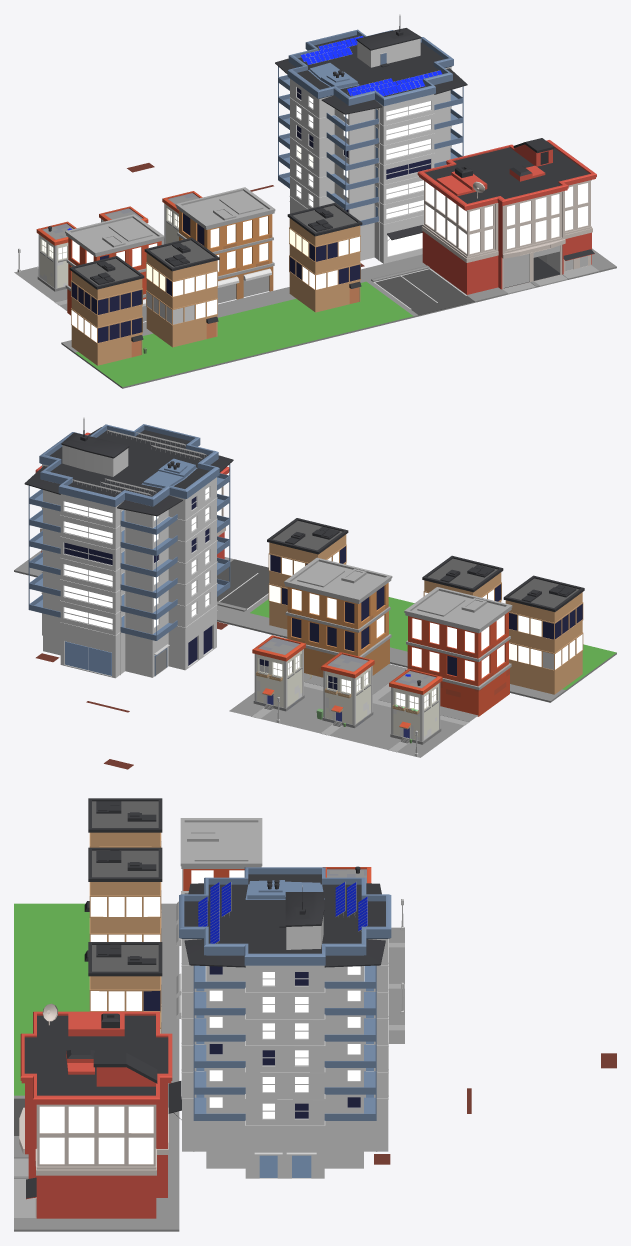
Rendered from citySurrounding1.glb.
3 renders of one model, top to bottom at view 1: azimuth 30°, elevation 25°; view 2: azimuth 150°, elevation 25°; view 3: azimuth 270°, elevation 25°, orthographic. The views are drawn at different scales.
Parts seen in each view (by area): view 1: World.FIrestation.001, Hus4.002, object 3; view 2: Hus4.002, object 3, World.FIrestation.001; view 3: Hus4.002, World.FIrestation.001, object 3.
Part boxes in pixels (left/top/right/bottom): World.FIrestation.001: left=61, top=138, right=616, bottom=388; Hus4.002: left=127, top=14, right=467, bottom=266; object 3: left=14, top=187, right=275, bottom=321; Hus4.002: left=24, top=417, right=311, bottom=769; object 3: left=229, top=557, right=512, bottom=757; World.FIrestation.001: left=14, top=432, right=616, bottom=702; Hus4.002: left=168, top=867, right=616, bottom=1178; World.FIrestation.001: left=14, top=798, right=179, bottom=1231; object 3: left=176, top=818, right=404, bottom=1043.
Size of the model in its own units: 112 by 43.79 by 87.31.
